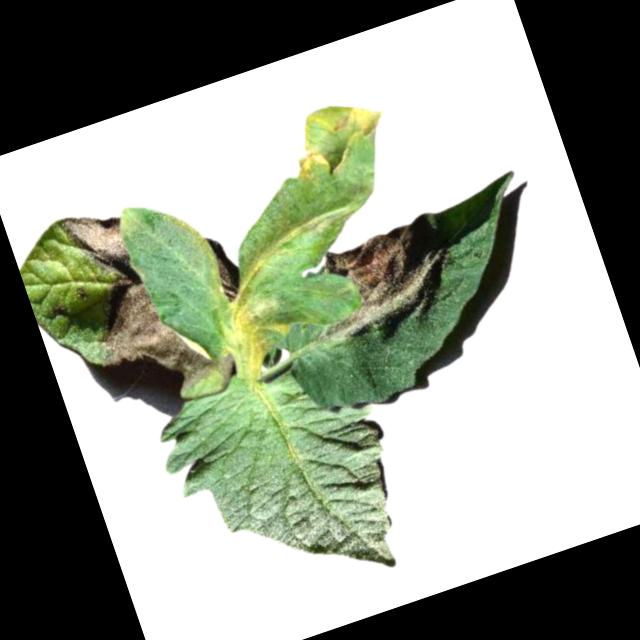Late_blight: (57, 187, 218, 409), (303, 207, 467, 347), (277, 88, 398, 188), (213, 273, 299, 367), (200, 230, 249, 307), (211, 350, 240, 386)
